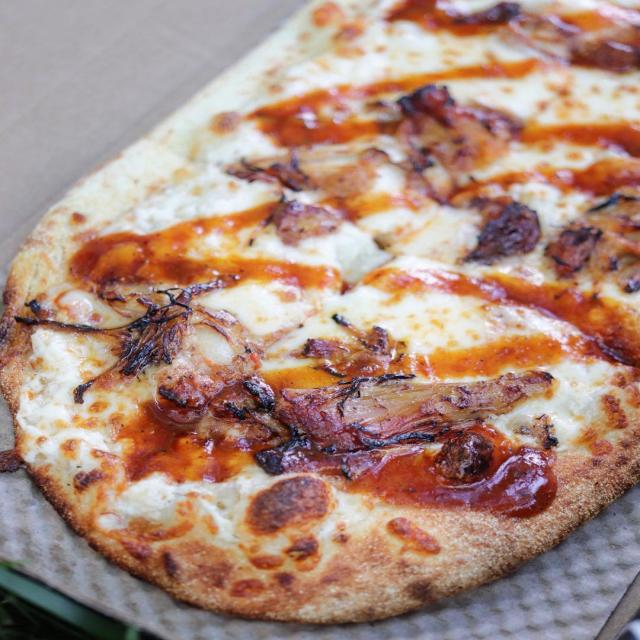pizza: (1, 0, 638, 622)
